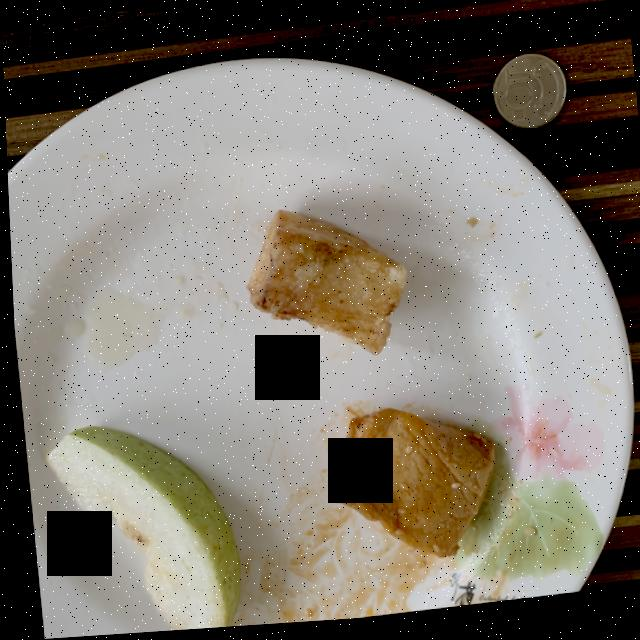coin: (492, 61, 565, 136)
creamy tofu: (324, 413, 490, 564)
fried potato: (244, 214, 405, 359)
guava -sliced-: (42, 427, 235, 632)
